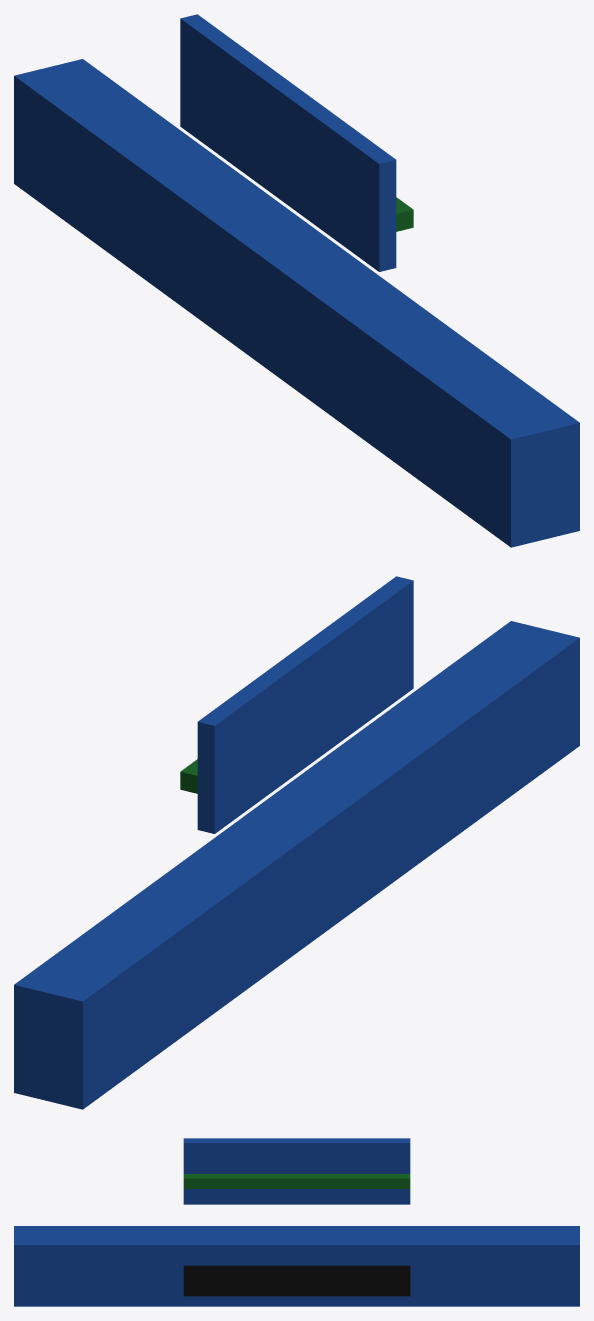
Rendered from electric_city_car_front_bumper.glb.
3 renders of one model, top to bottom at view 1: azimuth 30°, elevation 25°; view 2: azimuth 150°, elevation 25°; view 3: azimuth 270°, elevation 25°, orthographic. The views are drawn at different scales.
Parts seen in each view (by area): view 1: body:compound; view 2: body:compound; view 3: body:compound.
Boxes of the visible parts, <box> form: body:compound: <box>14,14,579,547</box>; body:compound: <box>14,576,579,1109</box>; body:compound: <box>14,1138,579,1306</box>.
Bounding box in the file's own units: 0.125 × 0.4688 × 1.56.
